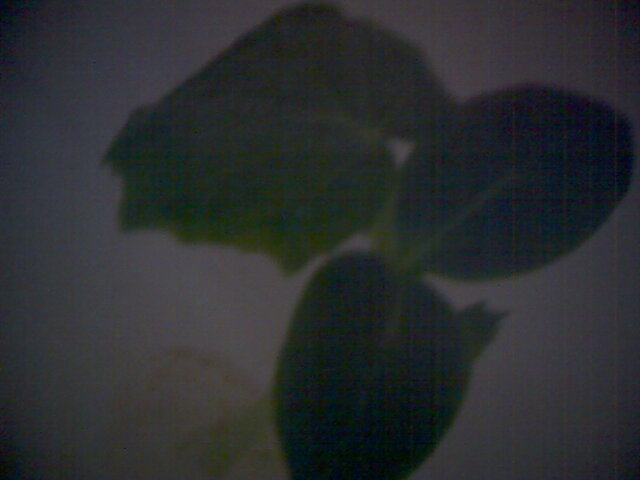lil_plant: (101, 12, 620, 440)
